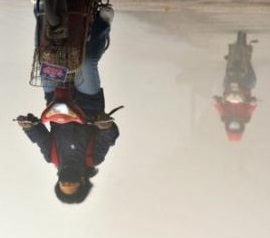person: (15, 3, 118, 207), (217, 41, 256, 142)
